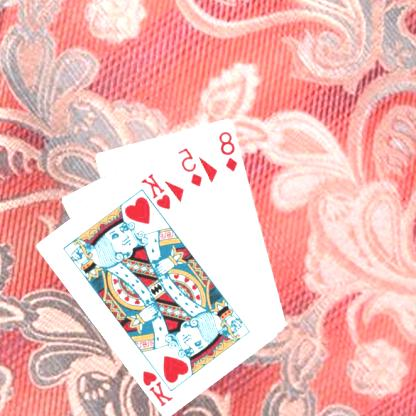5D: (176, 144, 206, 188)
8D: (218, 128, 242, 173)
KH: (141, 367, 176, 407), (140, 170, 174, 211)
